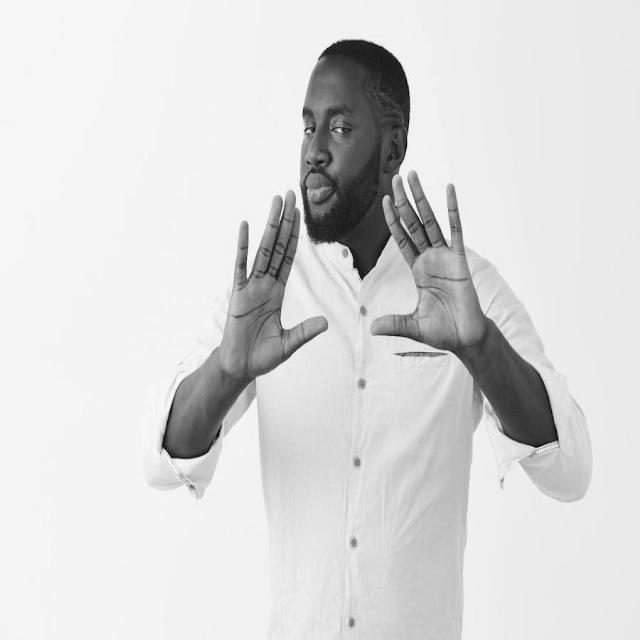stop: (366, 165, 490, 359), (218, 183, 331, 384)
